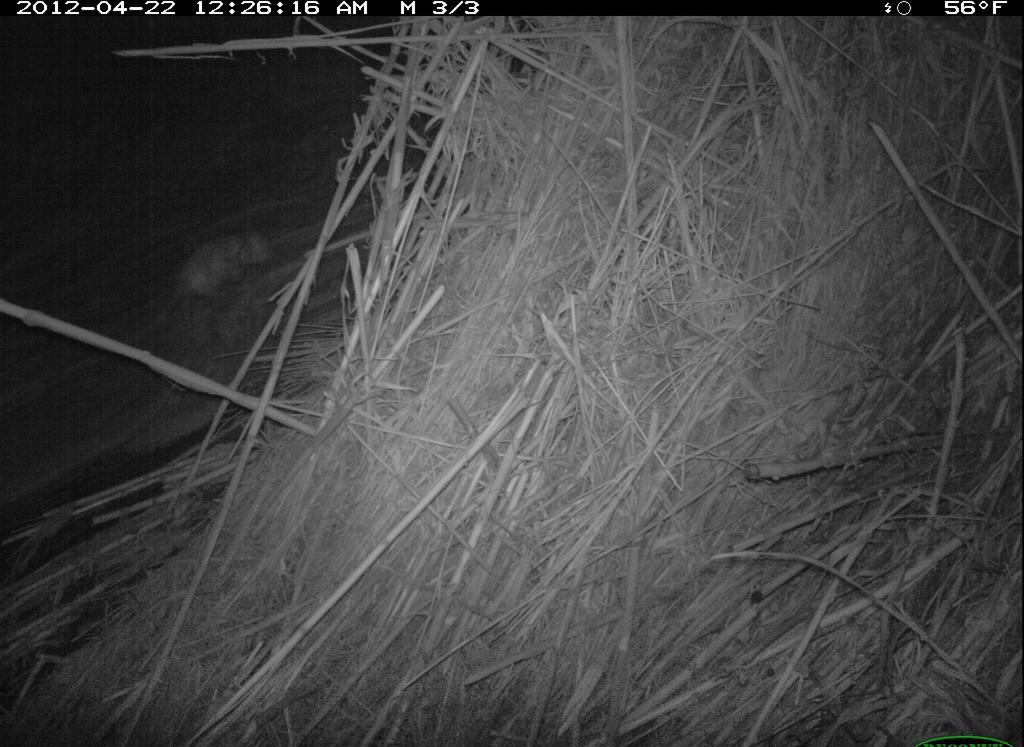opossum: (123, 213, 304, 346)
